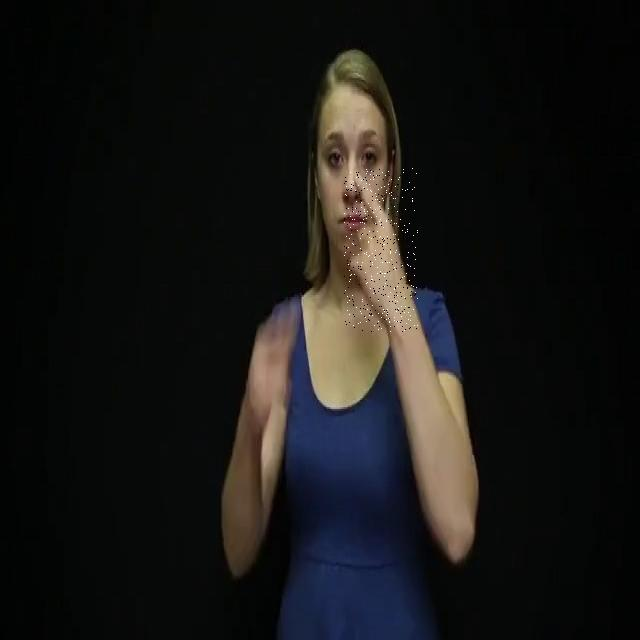allergy: (344, 168, 418, 332)
